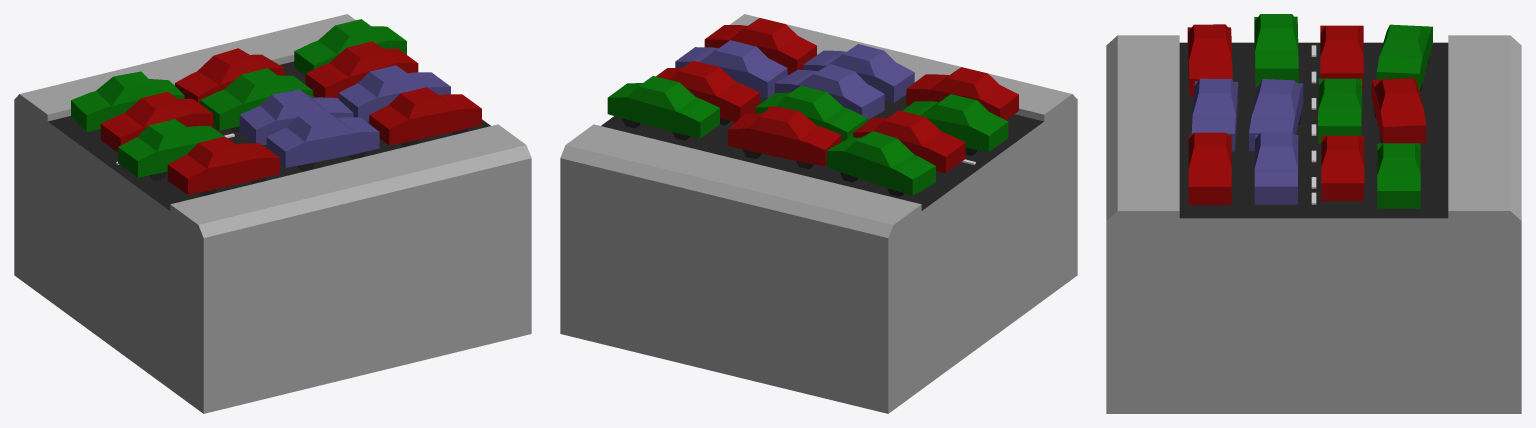
File: Road.fbx
The picture shows the model from 3 angles, left to right: view 1: azimuth 30°, elevation 25°; view 2: azimuth 150°, elevation 25°; view 3: azimuth 270°, elevation 25°; orthographic projection. The views are drawn at different scales.
Visible parts, largest first — view 1: pCube51, Car (×12); view 2: pCube51, Car (×12); view 3: pCube51, Car (×12).
Boxes of the visible parts, x1,y1,x2,y2 form: pCube51: (14,14,531,413); Car (×12): (71,19,481,194); pCube51: (560,14,1077,413); Car (×12): (607,18,1018,195); pCube51: (1106,35,1521,413); Car (×12): (1187,14,1432,208).
Size of the model in its own units: 1 by 0.6383 by 1.
